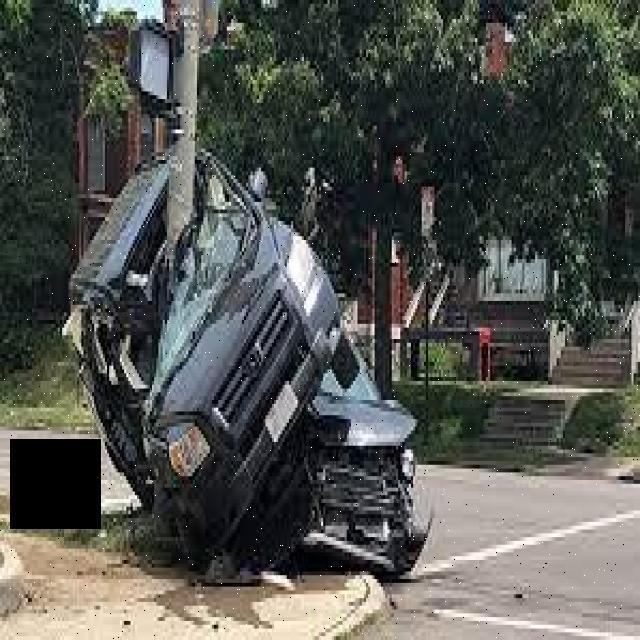multiple_accident: (2, 120, 438, 640)
